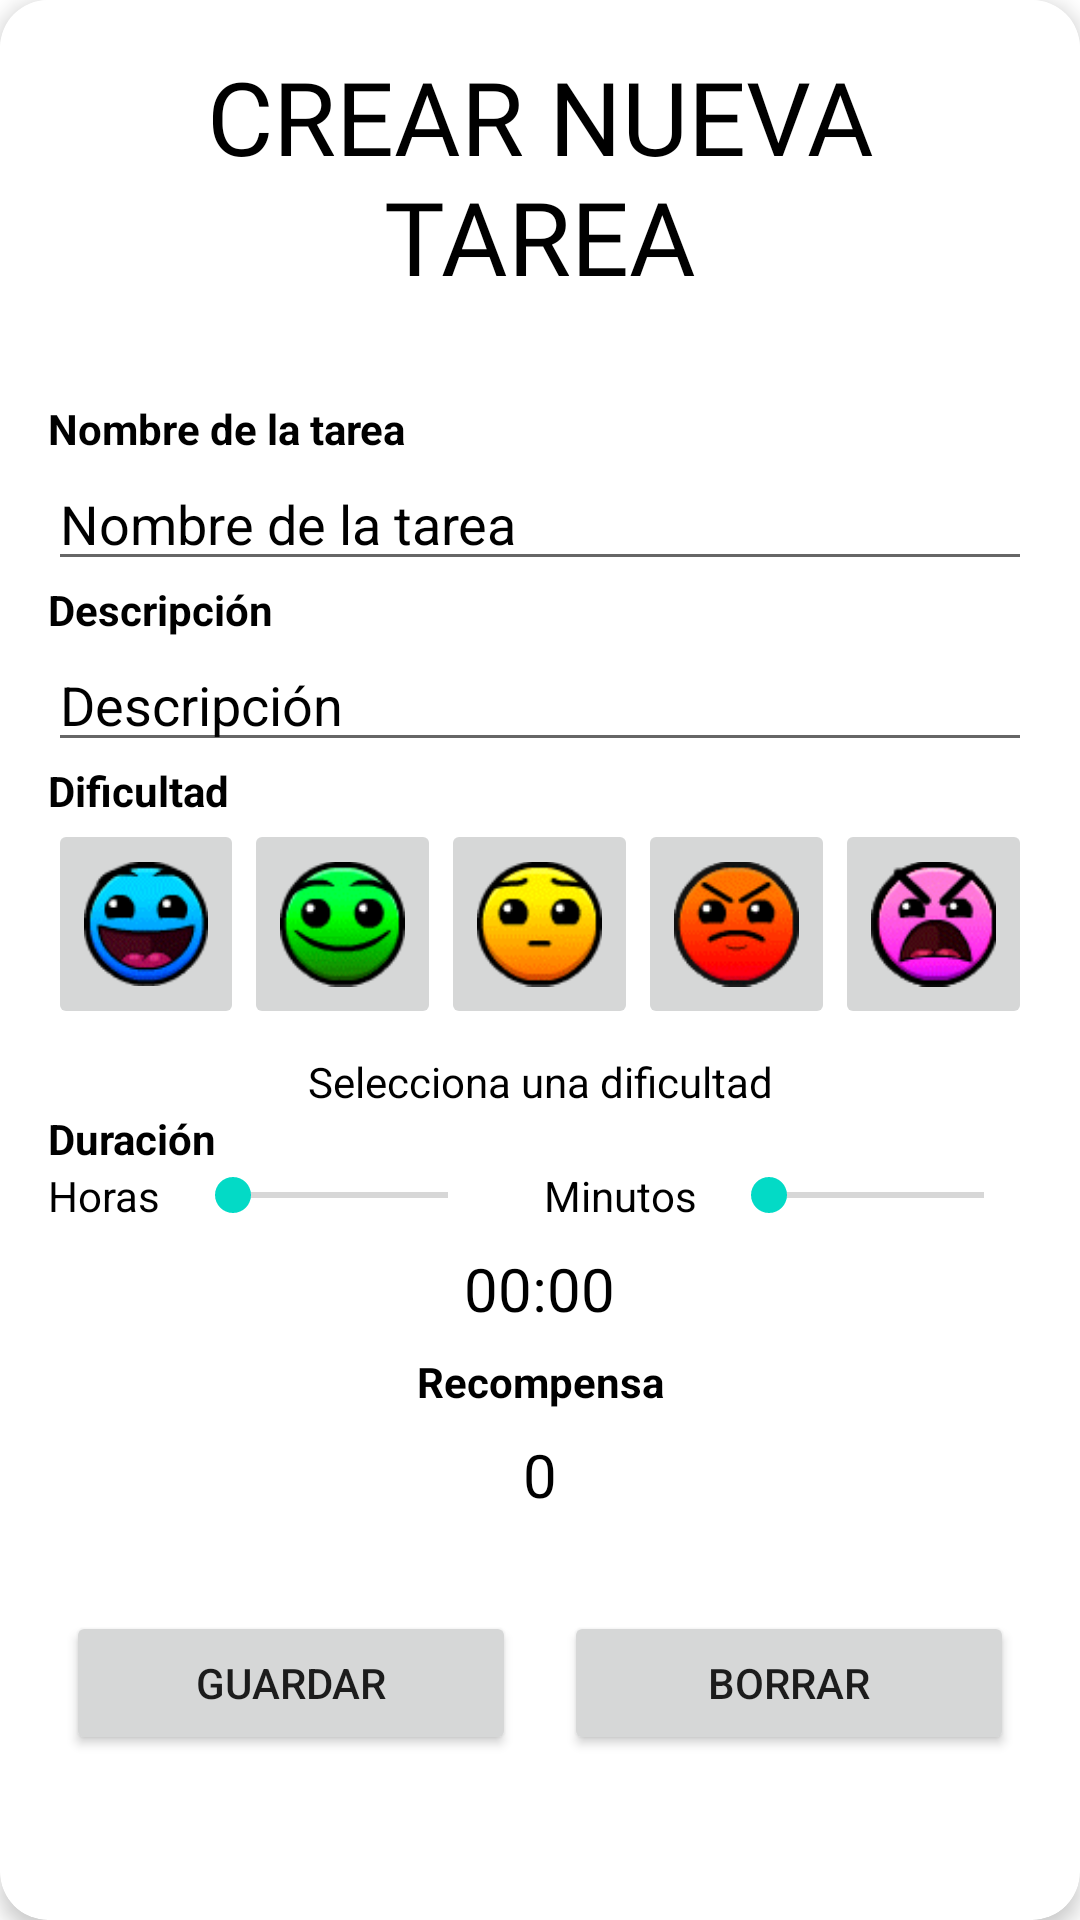

Icon click points for this 1080px×1920px phone screenshot, format [x,y]:
Difícil: [736,924]
Fácil: [342,924]
Muy Difícil: [933,924]
Muy Fácil: [146,924]
Normal: [539,924]
